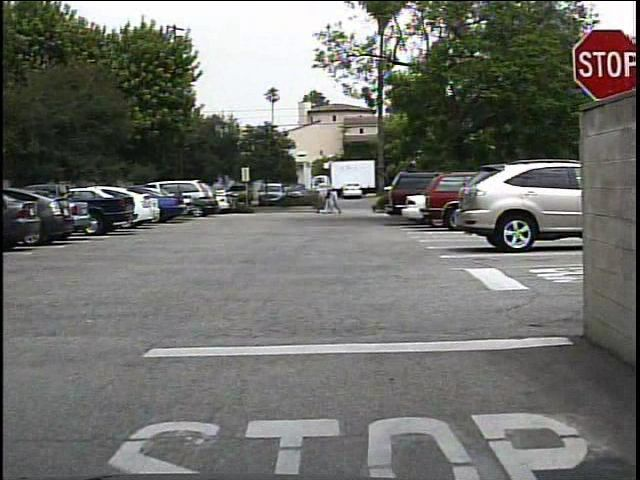person: (329, 186, 346, 216), (313, 186, 328, 215), (323, 186, 336, 217)
